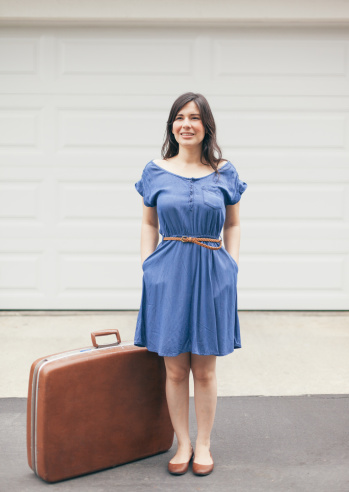em pe: (120, 82, 262, 469)
